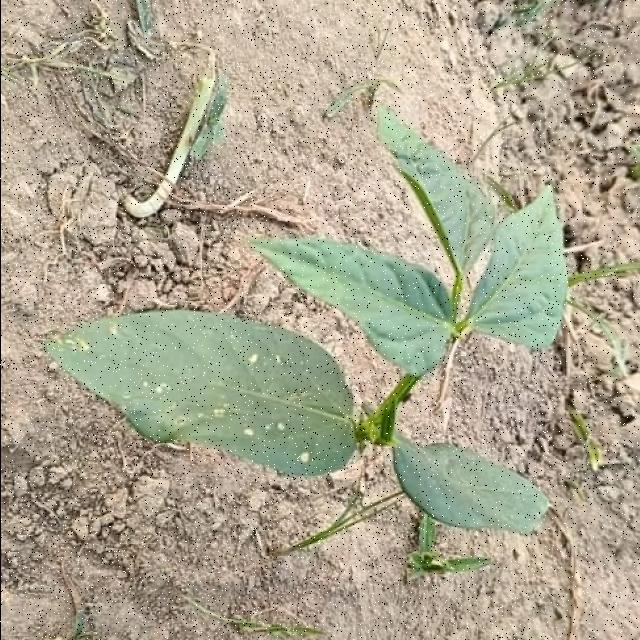plant: (46, 110, 566, 534)
